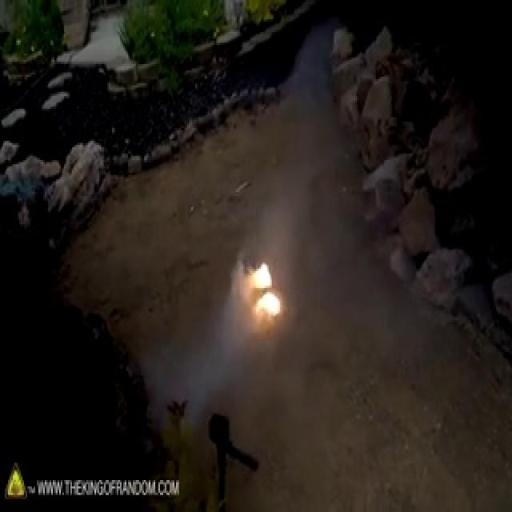smoke: (246, 234, 285, 316)
